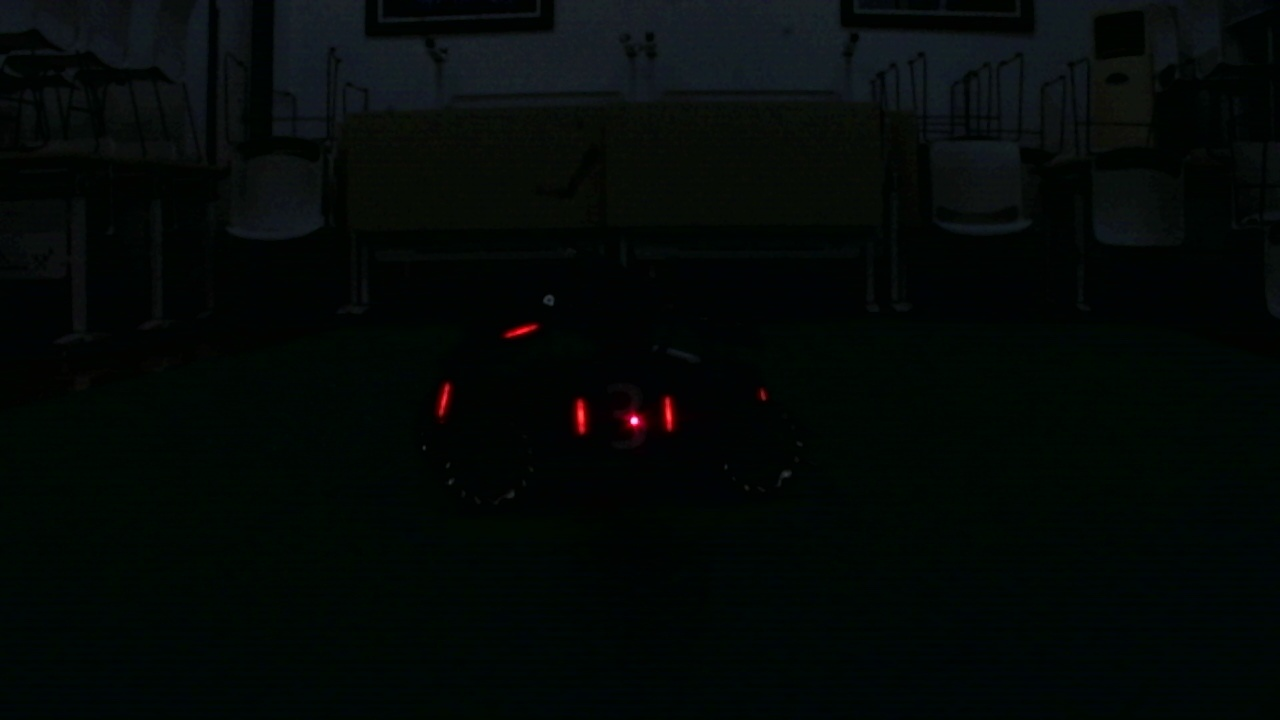lamp: (660, 391, 677, 431), (577, 395, 591, 433), (436, 376, 448, 417)
pair1: (573, 398, 677, 434)
